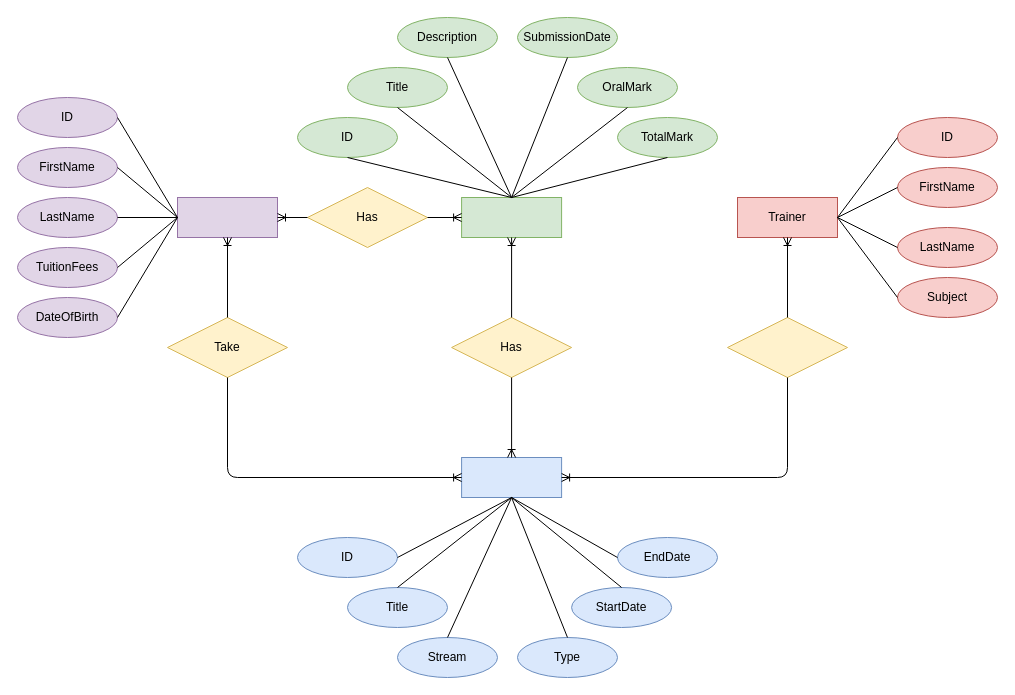
The diagram is 1015 pixels wide and 695 high, and some of its shapes have lost their labels. The shapes that lost their labels are listed below. From the top down, each one's centre as x and y in pixels, then its label:
point (227, 217): Student
point (511, 217): Assignment
point (787, 347): Teach
point (511, 477): Course
